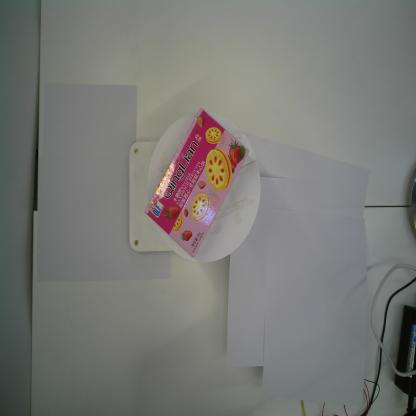Dessert: (144, 106, 251, 260)
